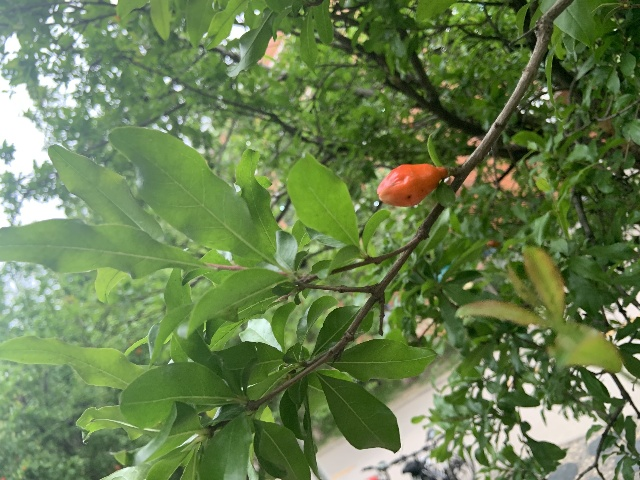bud: (376, 162, 446, 207)
